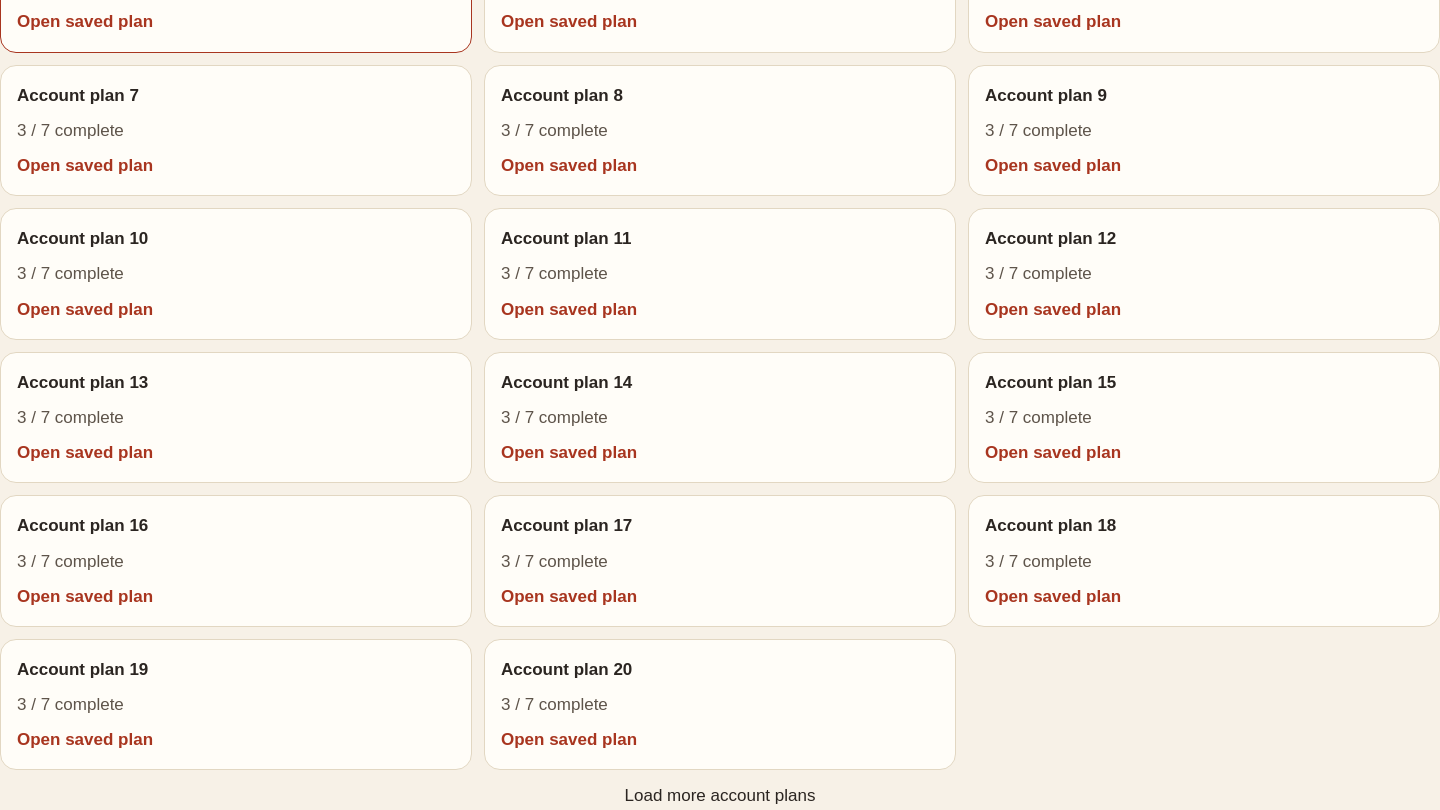
paginates in groups of 20 and retains authoritative counts for both pages
The image size is (1440, 810).
(page scrolled)
Click the button "Load more account plans".
click(720, 796)  # box [0,782,1439,809]
(page scrolled)
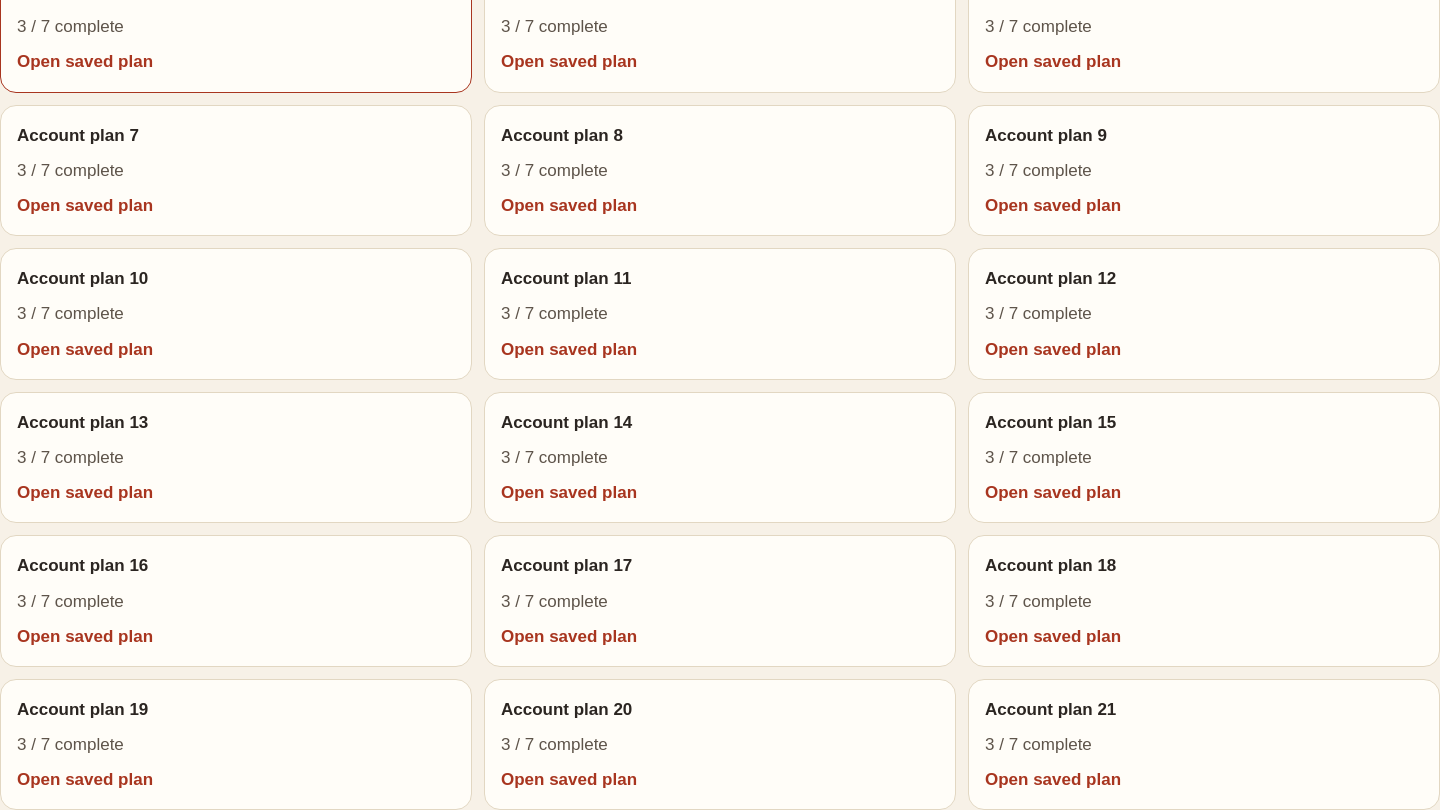
Result: the text "Account plan 21" is shown at [985,700,1116,719]
Result: the number of links is 21
Result: the button "Load more account plans" is gone
